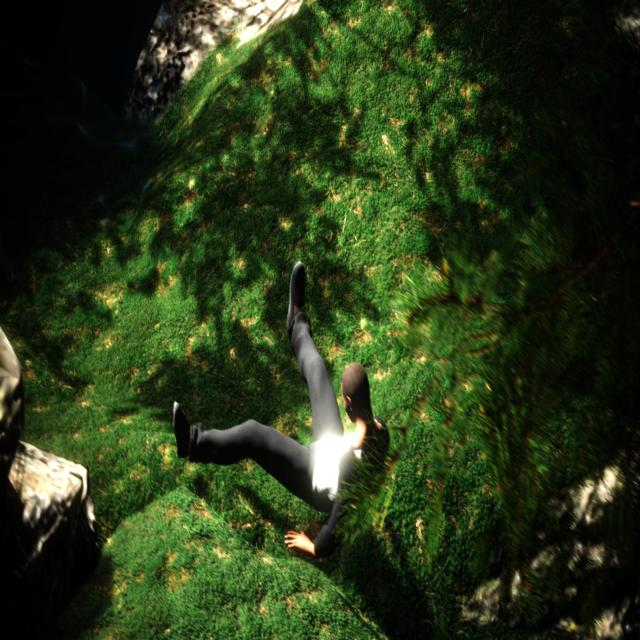Human: (165, 254, 392, 563)
